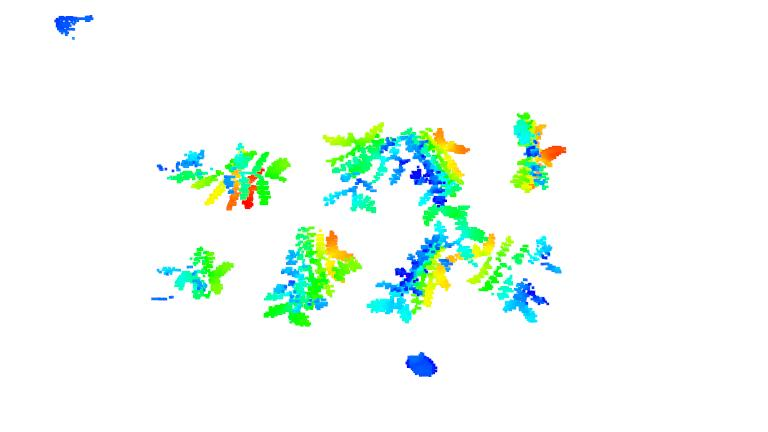chickpea: (365, 224, 479, 323), (157, 135, 290, 212), (468, 225, 567, 327), (266, 225, 362, 327), (311, 124, 407, 212), (405, 126, 472, 222), (151, 245, 238, 303), (507, 114, 569, 192)
